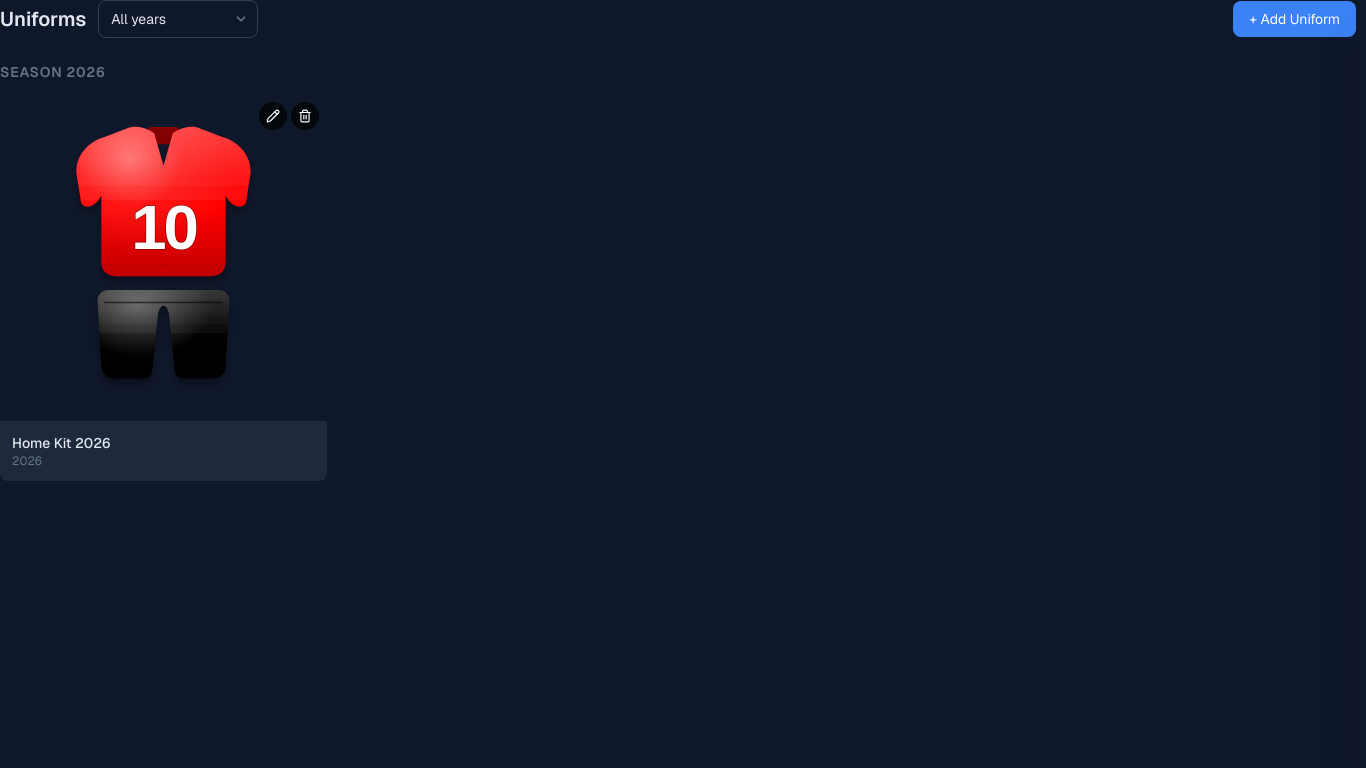
Test: UniformsPage › should open Edit drawer pre-filled when edit icon clicked
This screenshot has width=1366, height=768.
Expected: the text "Home Kit 2026" is shown, [12,434,110,452]
Step 1. Click the button named "edit home kit 2026" → x=273, y=116, box [259,102,287,130]
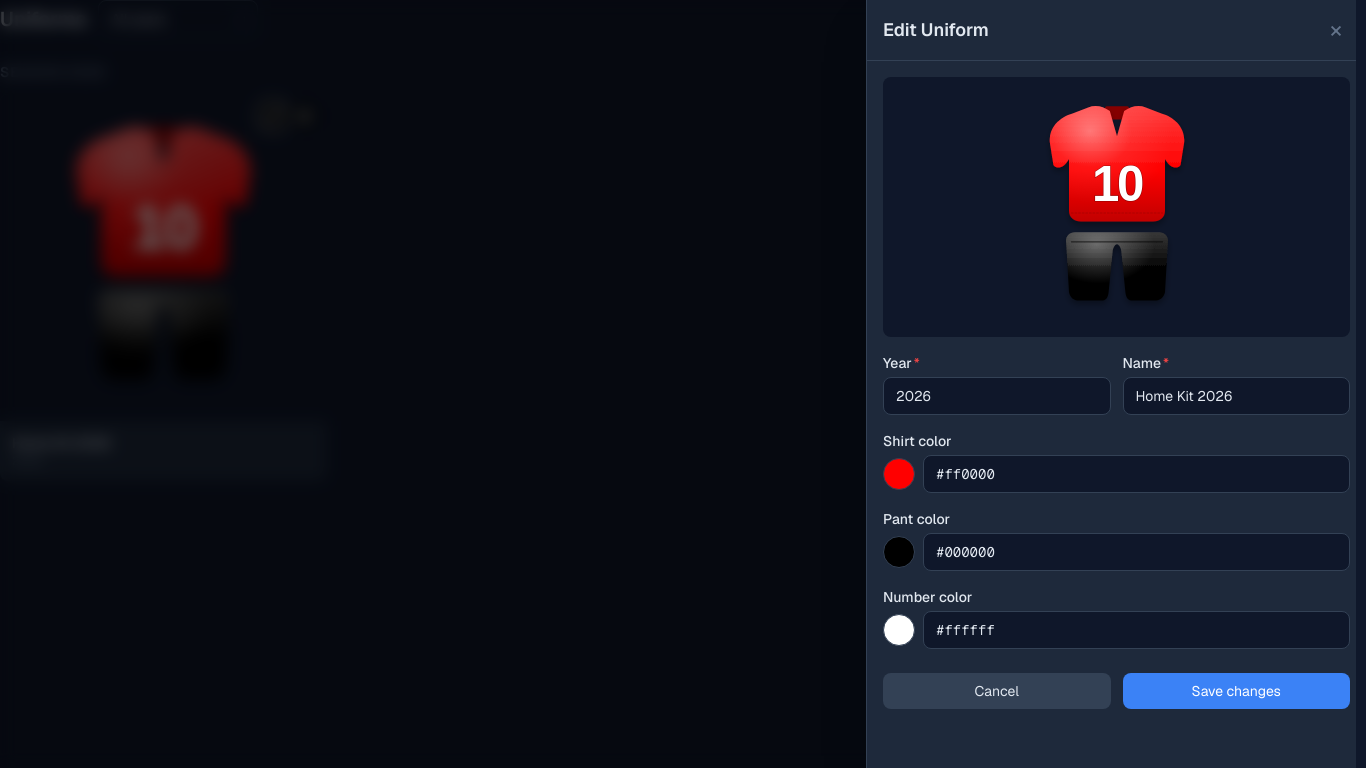
Now the dialog "Edit Uniform" is shown, box [866,0,1365,767]
Now the field labelled "Name*" holds "Home Kit 2026", box [1122,377,1350,415]
Now the number field labelled "Year*" holds "2026", box [883,377,1110,415]
